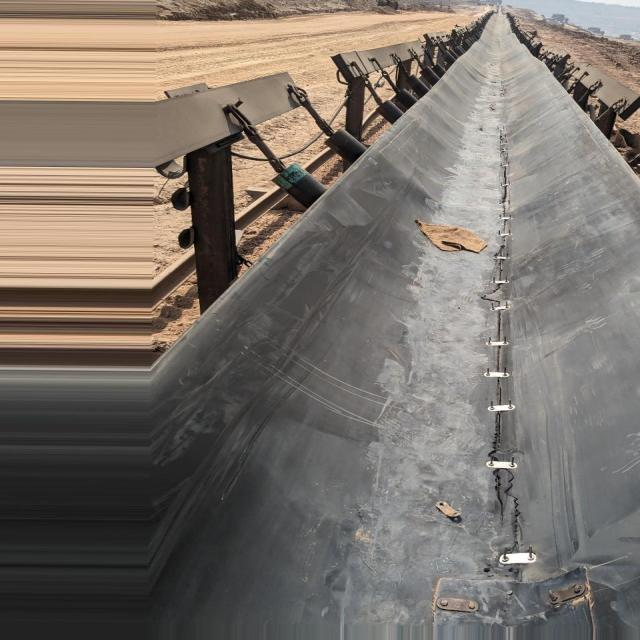Other Objects: (416, 219, 488, 254)
Roller: (375, 44, 468, 126), (272, 162, 328, 209), (324, 128, 368, 164)
patch work: (467, 190, 567, 578), (433, 563, 593, 623)
